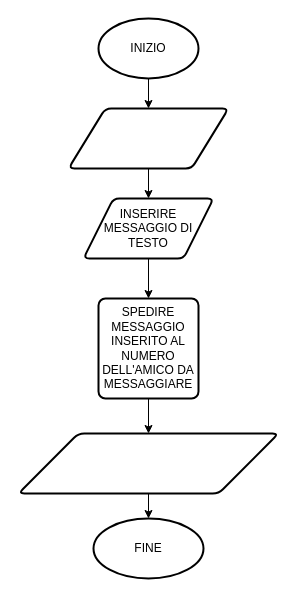
This 296x596 diagram has some shape labels left out. The box of each missing label's shape, as (x1, y1, x2, y2) in pixels:
LEGGI NUMERO DELL'AMICO DA MESSAGGIARE: (67, 107, 229, 169)
MOSTRA CONFERMA INVIO: (17, 432, 279, 494)
